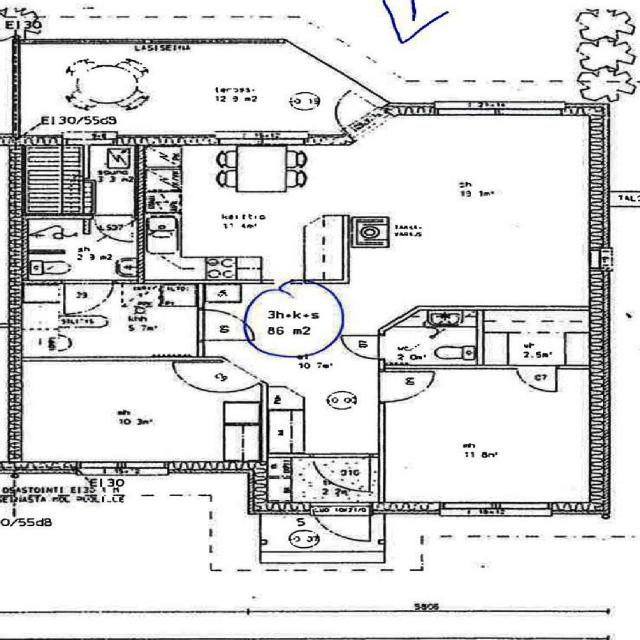door: (309, 85, 395, 138), (190, 359, 262, 404), (312, 501, 370, 549), (313, 453, 370, 492), (378, 371, 433, 402), (64, 280, 113, 314), (198, 310, 252, 340), (95, 213, 133, 242), (517, 364, 556, 392), (340, 335, 384, 358)
